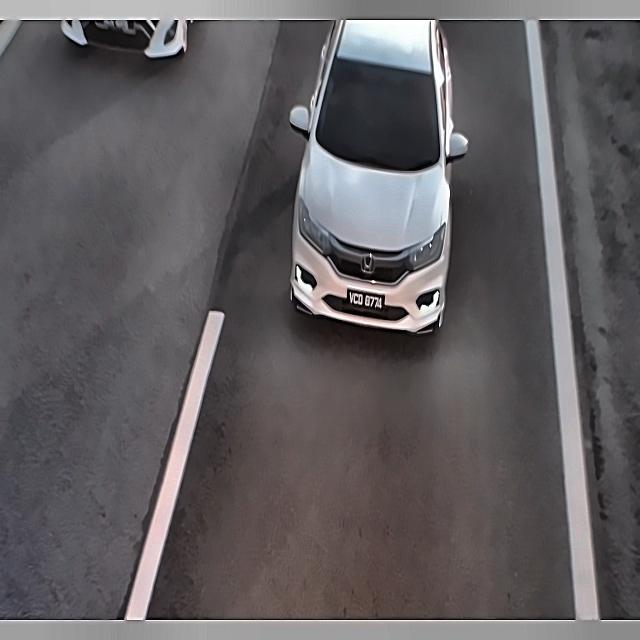car: (344, 281, 389, 315), (92, 18, 133, 35)
